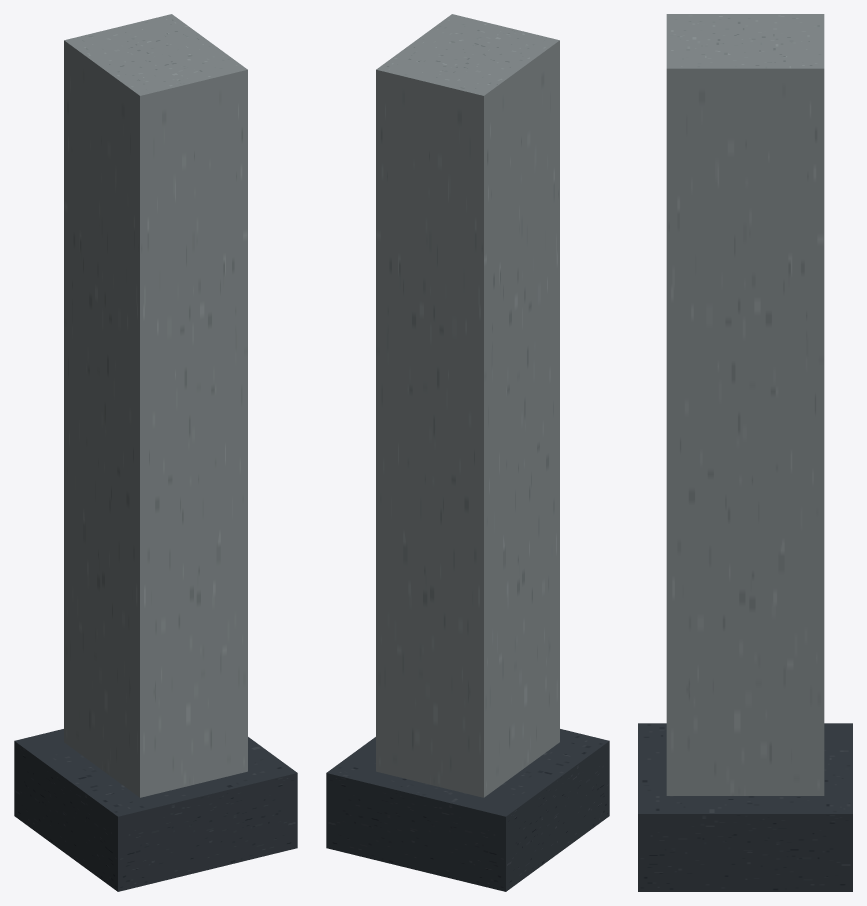
Rendered from RailPost.fbx.
The picture shows the model from 3 angles, left to right: view 1: azimuth 30°, elevation 25°; view 2: azimuth 150°, elevation 25°; view 3: azimuth 270°, elevation 25°; orthographic projection. The views are drawn at different scales.
Visible parts, largest first — view 1: RailPost; view 2: RailPost; view 3: RailPost.
Part boxes in pixels (<box>): RailPost: <box>14,14,297,891</box>; RailPost: <box>326,14,609,891</box>; RailPost: <box>638,14,852,891</box>.
Size of the model in its own units: 30 by 124 by 30.
